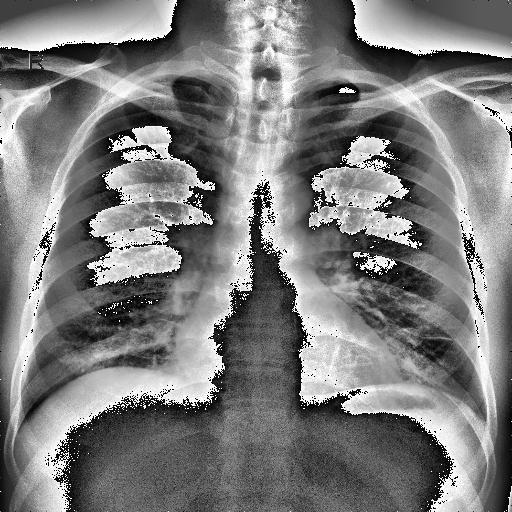11- Pleural thickening: (147, 68, 209, 88)
13- Pulmonary fibrosis: (400, 326, 482, 344), (410, 330, 465, 344), (424, 331, 462, 343)
